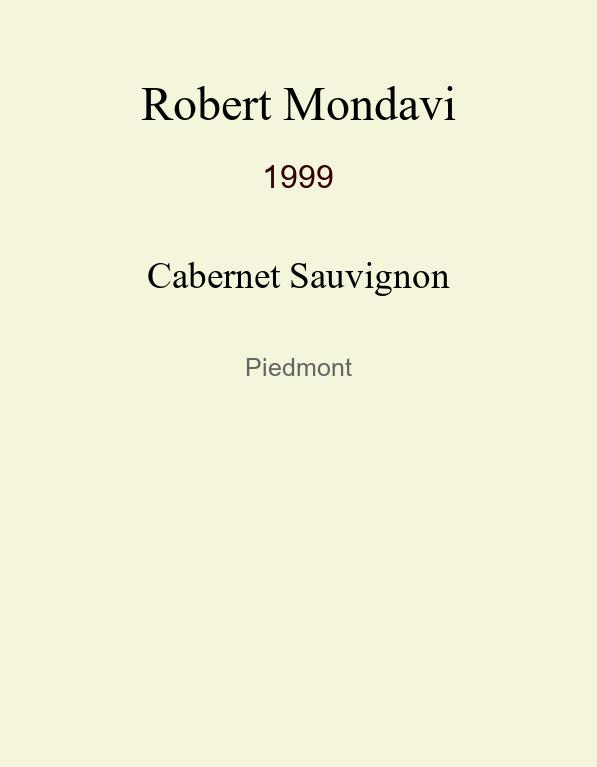brand: (141, 77, 456, 111)
region: (245, 353, 352, 371)
variety: (147, 255, 450, 289)
vintage: (262, 159, 334, 182)
